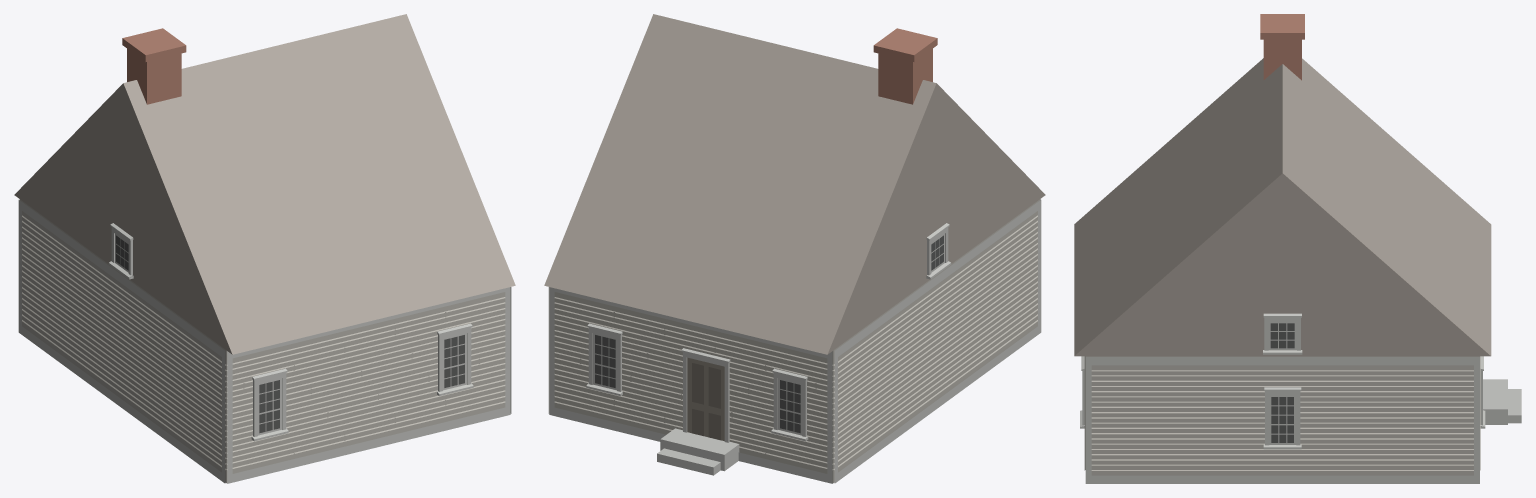
Rendered from recon_1835_north_d6_080__inferred_1835.glb.
The picture shows the model from 3 angles, left to right: view 1: azimuth 30°, elevation 25°; view 2: azimuth 150°, elevation 25°; view 3: azimuth 270°, elevation 25°; orthographic projection. The views are drawn at different scales.
Visible parts, largest first — view 1: recon_1835_north_d6_080__inferred_1835; view 2: recon_1835_north_d6_080__inferred_1835; view 3: recon_1835_north_d6_080__inferred_1835.
Part boxes in pixels (x1=…): recon_1835_north_d6_080__inferred_1835: x1=14, y1=14, x2=515, y2=483; recon_1835_north_d6_080__inferred_1835: x1=544, y1=14, x2=1045, y2=483; recon_1835_north_d6_080__inferred_1835: x1=1074, y1=14, x2=1521, y2=483.
Size of the model in its own units: 7.07 by 8.28 by 9.81.
